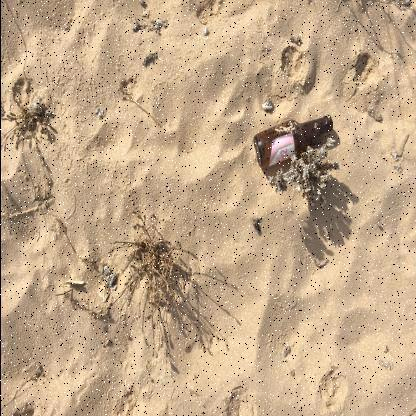glass: (252, 114, 332, 168)
